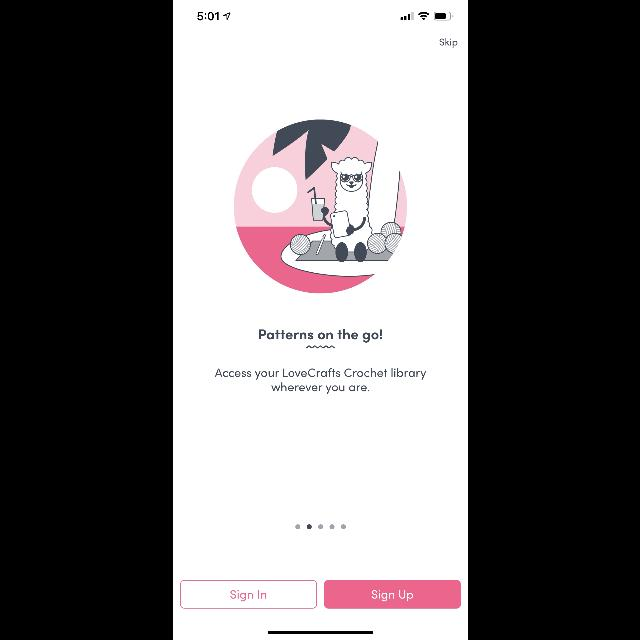image: (234, 120, 406, 294)
pageindicator: (295, 524, 345, 530)
text: (214, 368, 426, 394), (258, 330, 382, 342), (439, 38, 457, 48)
textbutton: (324, 580, 461, 608), (180, 580, 316, 608)
uppertaskbar: (196, 12, 452, 21)
